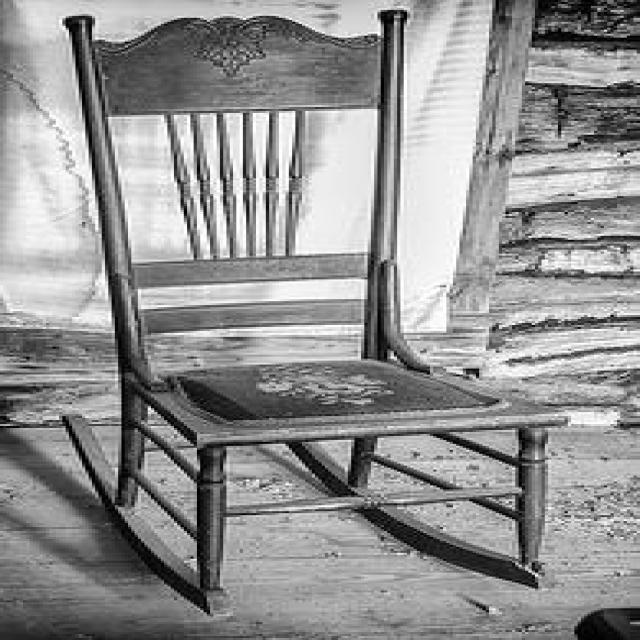chair: (59, 8, 568, 616)
